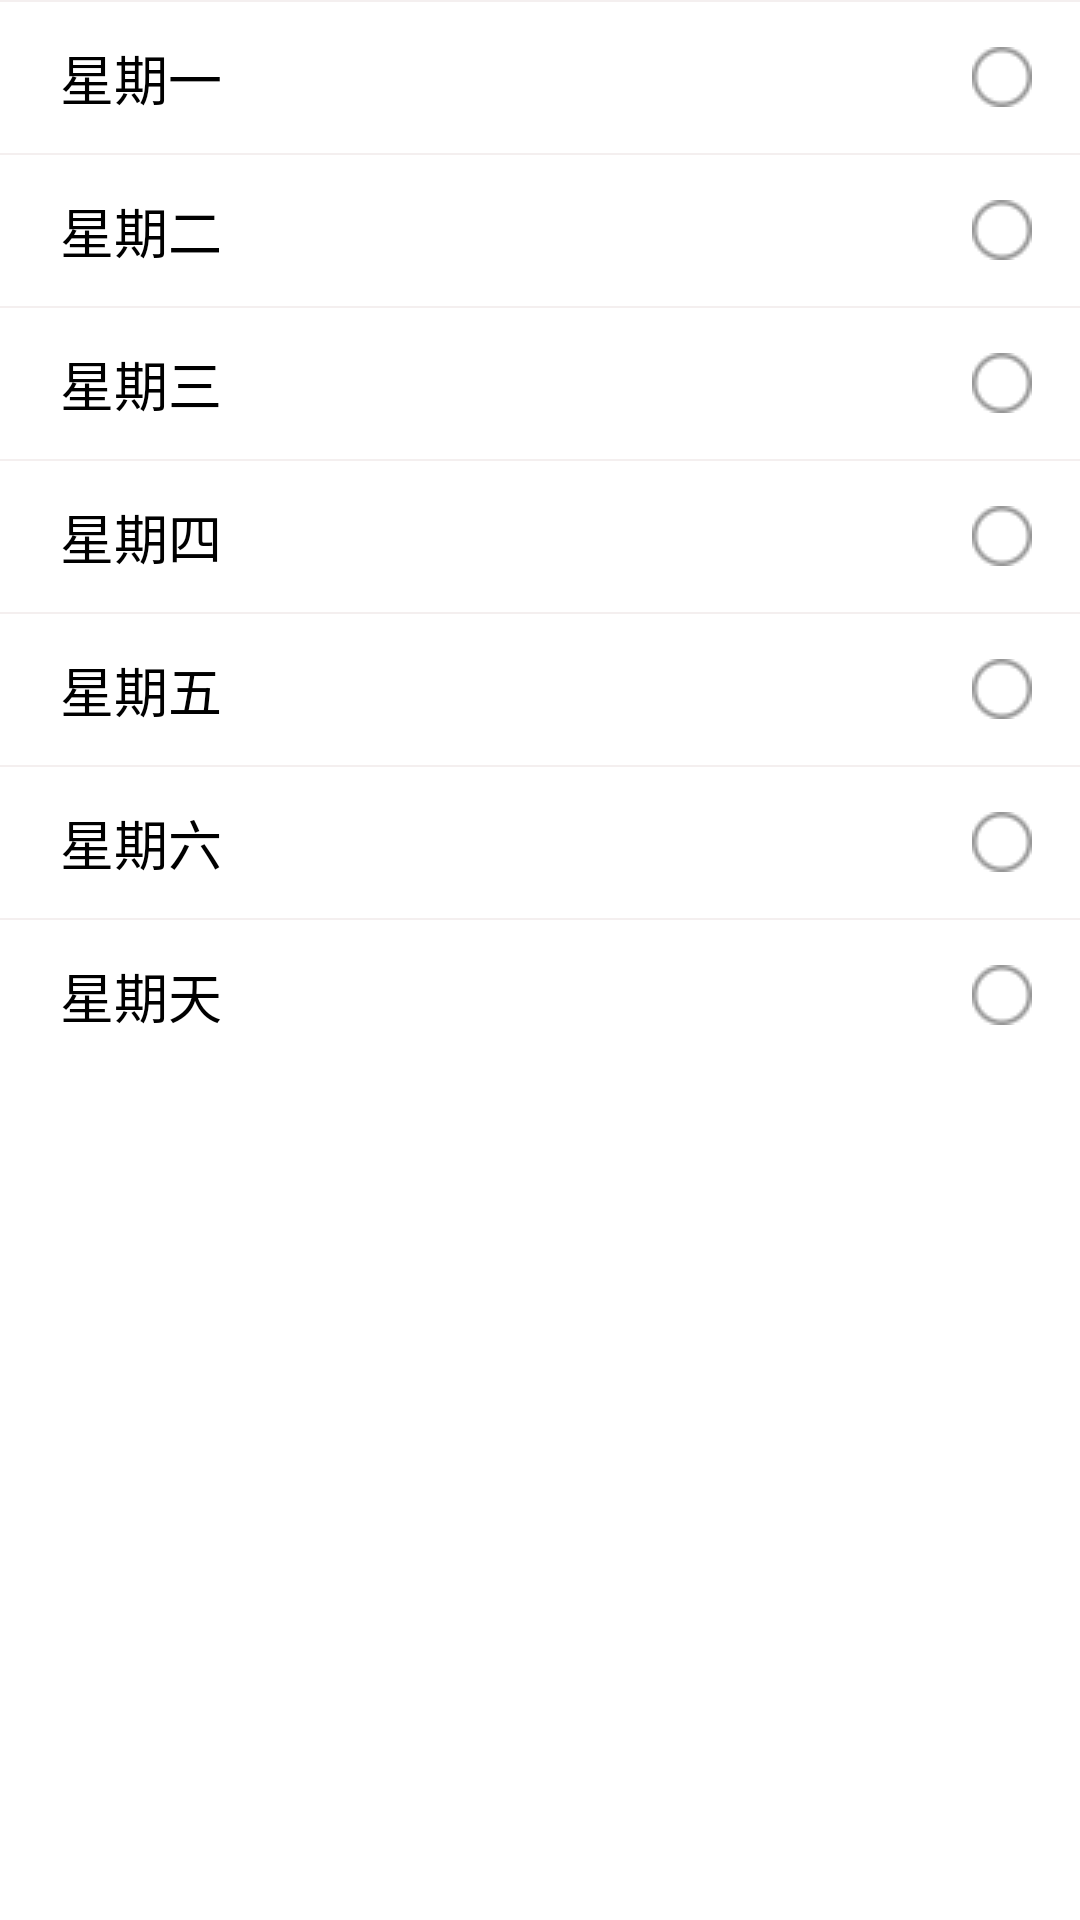

Named icons in this screenshot (1080×1920) and their bounding boxes, (x1, y1, x2, y2):
checkbox choose: (972, 47, 1032, 107), (972, 200, 1032, 260), (972, 353, 1032, 413), (972, 506, 1032, 566), (972, 659, 1032, 719), (972, 812, 1032, 872), (972, 965, 1032, 1025)
